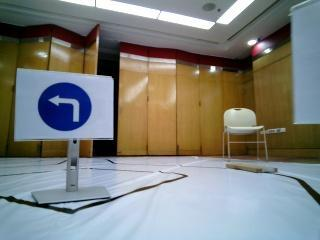left: (22, 73, 105, 138)
